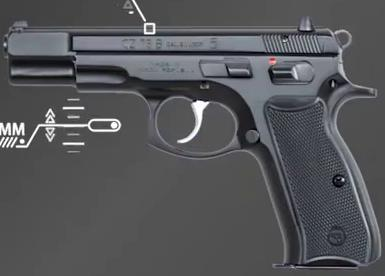gun: (1, 1, 385, 276)
